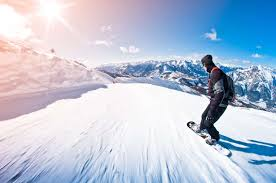snowboard: (186, 120, 233, 160)
